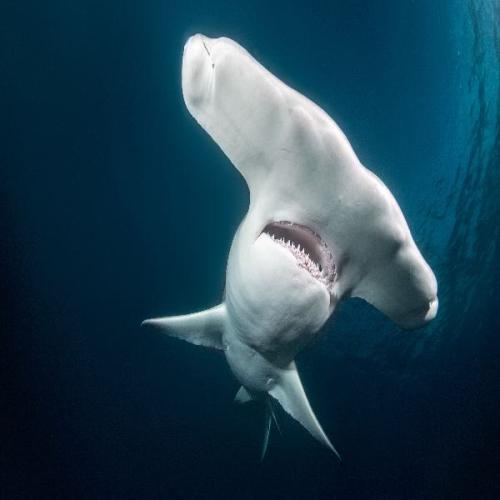shark-endangered: (142, 30, 440, 465)
